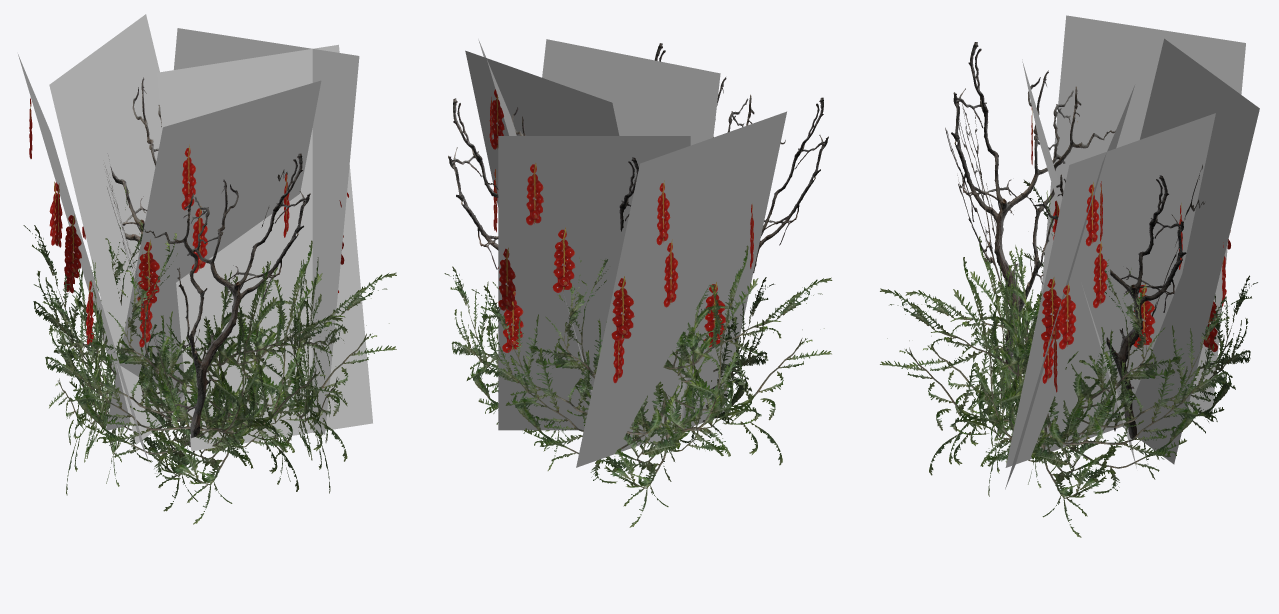
File: ker.FBX
The picture shows the model from 3 angles, left to right: view 1: azimuth 30°, elevation 25°; view 2: azimuth 150°, elevation 25°; view 3: azimuth 270°, elevation 25°; orthographic projection.
Visible parts, largest first — view 1: Plane16; view 2: Plane16; view 3: Plane16.
Part boxes in pixels (<box>): Plane16: <box>18,14,396,524</box>; Plane16: <box>444,39,832,527</box>; Plane16: <box>880,15,1259,537</box>.
Size of the model in its own units: 40.43 by 50.46 by 41.01.
